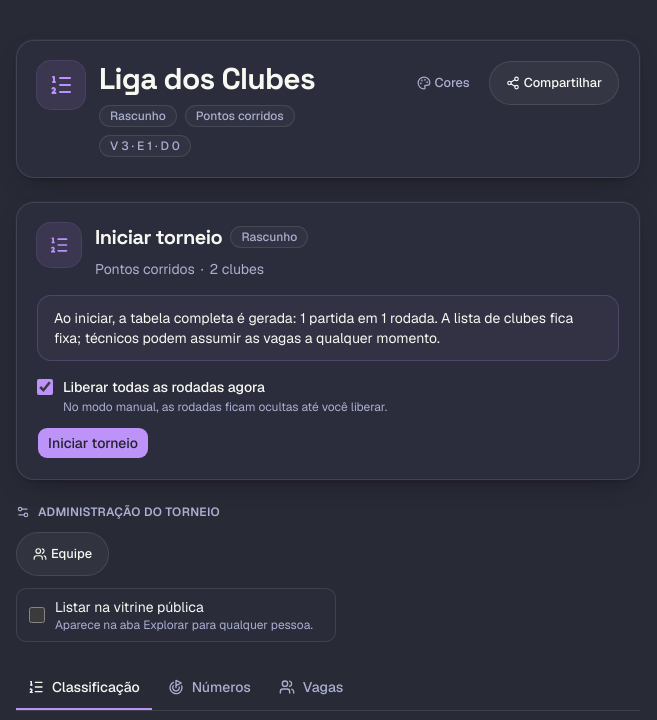
Test: TorneioPage — lados por formato (integração das seções) › COMPETITIVO: renderiza a seção VAGAS (não Participantes) e busca códigos só do dono
The width and height of the screenshot is (657, 720).
What coordinates should you click on to do the following:
click the tab "Vagas"
I would click on:
 (311, 688)
Its box is [267, 666, 355, 710].
(page scrolled)
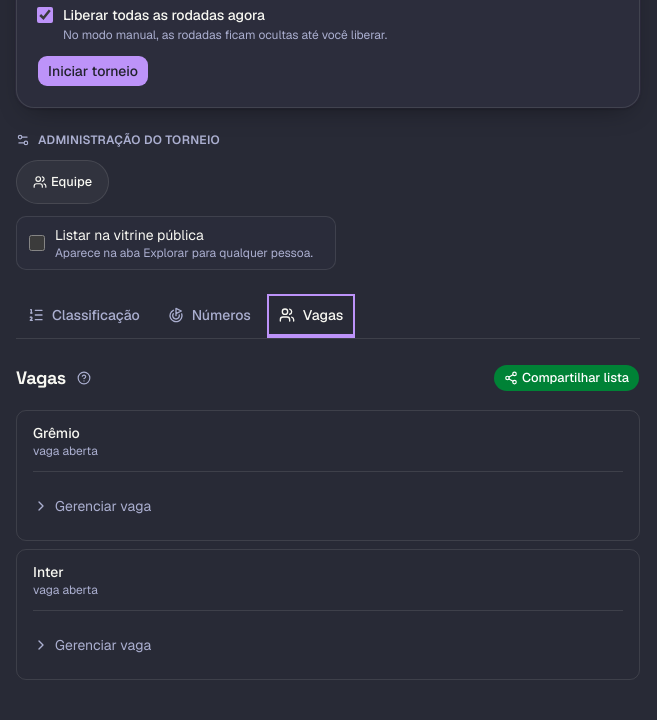
Now the heading "Vagas" is shown, box [16, 364, 66, 392]
Now the text "Grêmio" is shown, box [33, 424, 80, 442]
